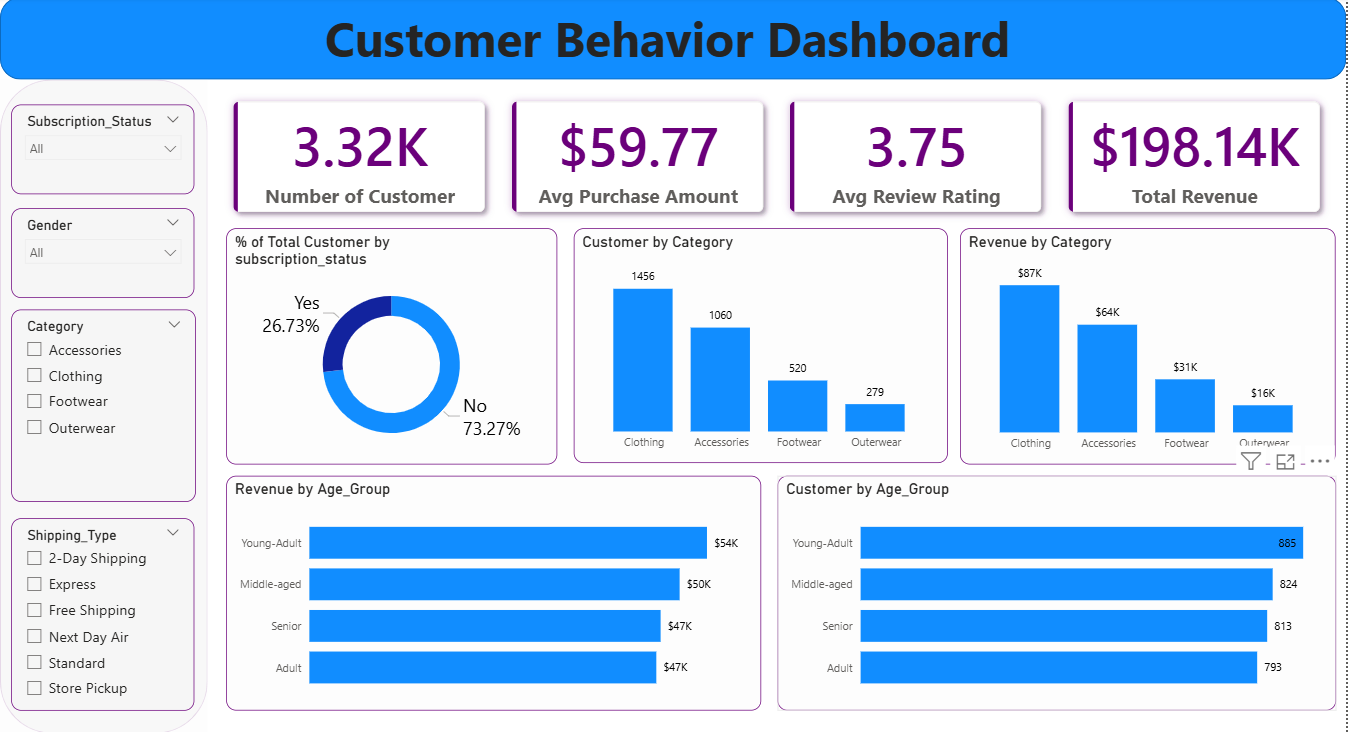

What the dashboard file says about the page in this screenshot:
{"tool":"powerbi","page":{"name":"Customer_Behavior","canvas":[1500,820],"ordinal":0},"visuals":[{"type":"cardVisual","fields":{"Data":["_Measures.Number of Customer","_Measures.Average_purchase_amount","_Measures.Average Review Rating","_Measures.Total Revenue"]},"box":[231.4,87.1,1268.6,181.4],"z":0},{"type":"shape","box":[0,0,1499.9,91.9],"z":1000},{"type":"textbox","box":[309.2,4.2,869,82.2],"z":2000},{"type":"donutChart","title":"% of Total Customer by subscription_status","fields":{"Category":["customer_behaviour customer.subscription_status"],"Y":["CountNonNull(customer_behaviour customer.customer_id)"]},"box":[251.4,257.1,368.6,262.9],"z":3000},{"type":"clusteredColumnChart","title":"Revenue by Category","fields":{"Y":["Sum(customer_behaviour customer.purchase_amount)"],"Category":["customer_behaviour customer.category"]},"box":[1070,257.1,418.6,262.9],"z":4000},{"type":"clusteredColumnChart","title":"Customer  by Category","fields":{"Y":["CountNonNull(customer_behaviour customer.customer_id)"],"Category":["customer_behaviour customer.category"]},"box":[639.2,257.6,416.4,261.8],"z":5000},{"type":"shape","box":[0,91.4,231.4,728.6],"z":6000},{"type":"slicer","fields":{"Values":["customer_behaviour customer.subscription_status"]},"box":[12.9,120,204.3,100],"z":7000},{"type":"slicer","fields":{"Values":["customer_behaviour customer.gender"]},"box":[12.9,235.7,204.3,100],"z":8000},{"type":"slicer","fields":{"Values":["customer_behaviour customer.category"]},"box":[12.9,348.6,205.7,214.3],"z":9000},{"type":"slicer","fields":{"Values":["customer_behaviour customer.shipping_type"]},"box":[12.9,581.4,204.3,214.3],"z":10000},{"type":"clusteredBarChart","title":"Revenue by Age_Group","fields":{"Category":["customer_behaviour customer.age_group"],"Y":["Sum(customer_behaviour customer.purchase_amount)"]},"box":[252.1,533.4,596.1,261.8],"z":11000},{"type":"clusteredBarChart","title":"Customer by Age_Group","fields":{"Category":["customer_behaviour customer.age_group"],"Y":["Count(customer_behaviour customer.customer_id)"]},"box":[866.2,533.4,622.5,261.8],"z":12000}]}

Visuals, with their boxes in screenshot pixels (x1, y1, x2, y2), scaled from the page's 1500x820 canvas onto the 1348x732 screenshot:
cardVisual - _Measures.Number of Customer x _Measures.Average_purchase_amount: crop(208, 78, 1347, 240)
shape: crop(0, 0, 1347, 82)
textbox: crop(278, 4, 1059, 77)
"% of Total Customer by subscription_status" donutChart: crop(226, 230, 557, 464)
"Revenue by Category" clusteredColumnChart: crop(962, 230, 1338, 464)
"Customer  by Category" clusteredColumnChart: crop(574, 230, 949, 464)
shape: crop(0, 82, 208, 731)
slicer - customer_behaviour customer.subscription_status: crop(12, 107, 195, 196)
slicer - customer_behaviour customer.gender: crop(12, 210, 195, 300)
slicer - customer_behaviour customer.category: crop(12, 311, 196, 502)
slicer - customer_behaviour customer.shipping_type: crop(12, 519, 195, 710)
"Revenue by Age_Group" clusteredBarChart: crop(227, 476, 762, 710)
"Customer by Age_Group" clusteredBarChart: crop(778, 476, 1338, 710)
